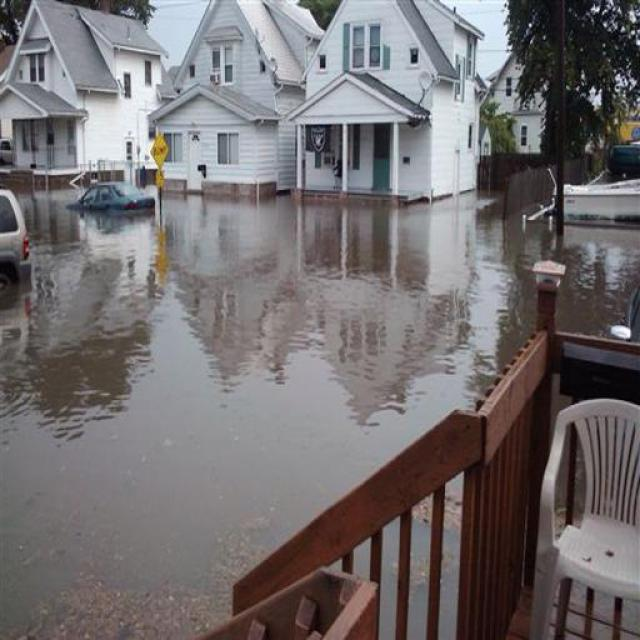puddle: (44, 201, 341, 515), (8, 301, 412, 495), (294, 189, 523, 335)
